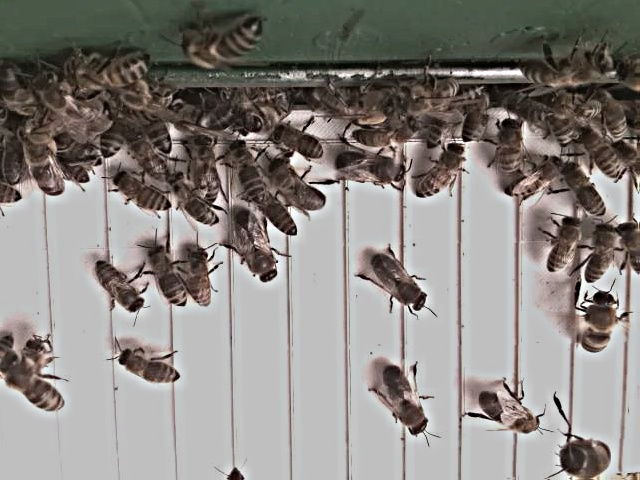Drone: (380, 363, 434, 441), (369, 252, 431, 314), (268, 154, 329, 217), (232, 208, 280, 288), (475, 387, 549, 437), (334, 149, 412, 189), (576, 289, 620, 357)
Worker: (412, 141, 469, 202), (91, 259, 149, 316), (10, 362, 68, 416), (110, 171, 175, 219), (146, 243, 190, 313), (186, 132, 225, 204), (172, 174, 222, 229), (501, 160, 566, 202), (118, 348, 184, 388), (226, 137, 264, 201), (566, 164, 608, 221), (272, 121, 328, 163), (582, 224, 618, 288), (546, 216, 583, 278), (258, 193, 302, 240), (186, 247, 217, 312), (495, 117, 526, 180)
